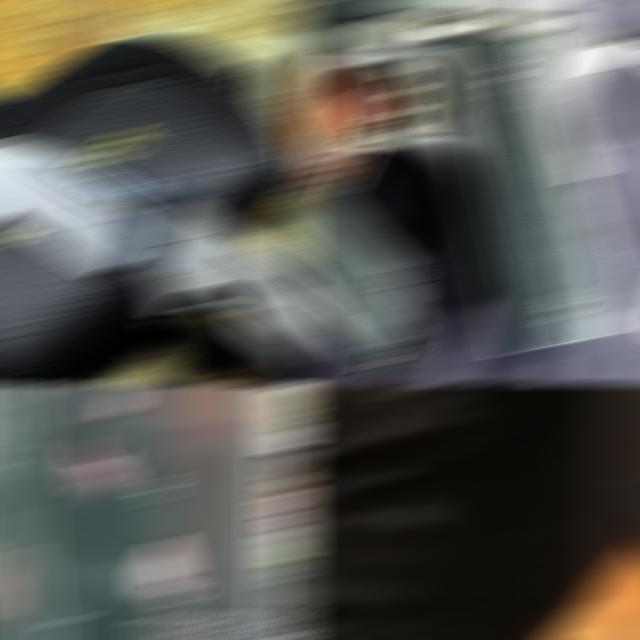Knife_Handle: (137, 539, 195, 638)
